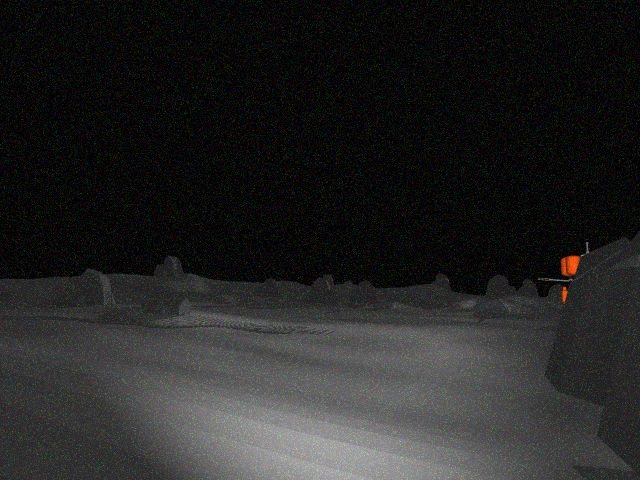homebase: (538, 237, 632, 313)
